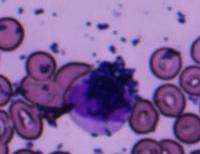D: (66, 64, 134, 135)
